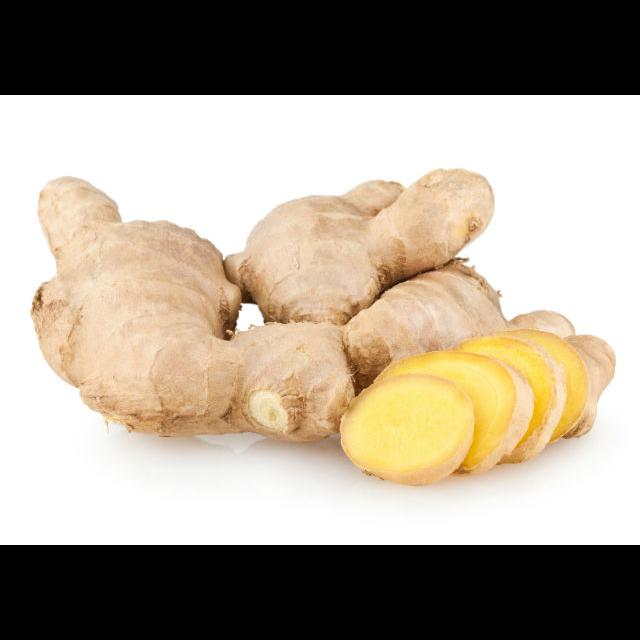ginger: (34, 166, 621, 444)
